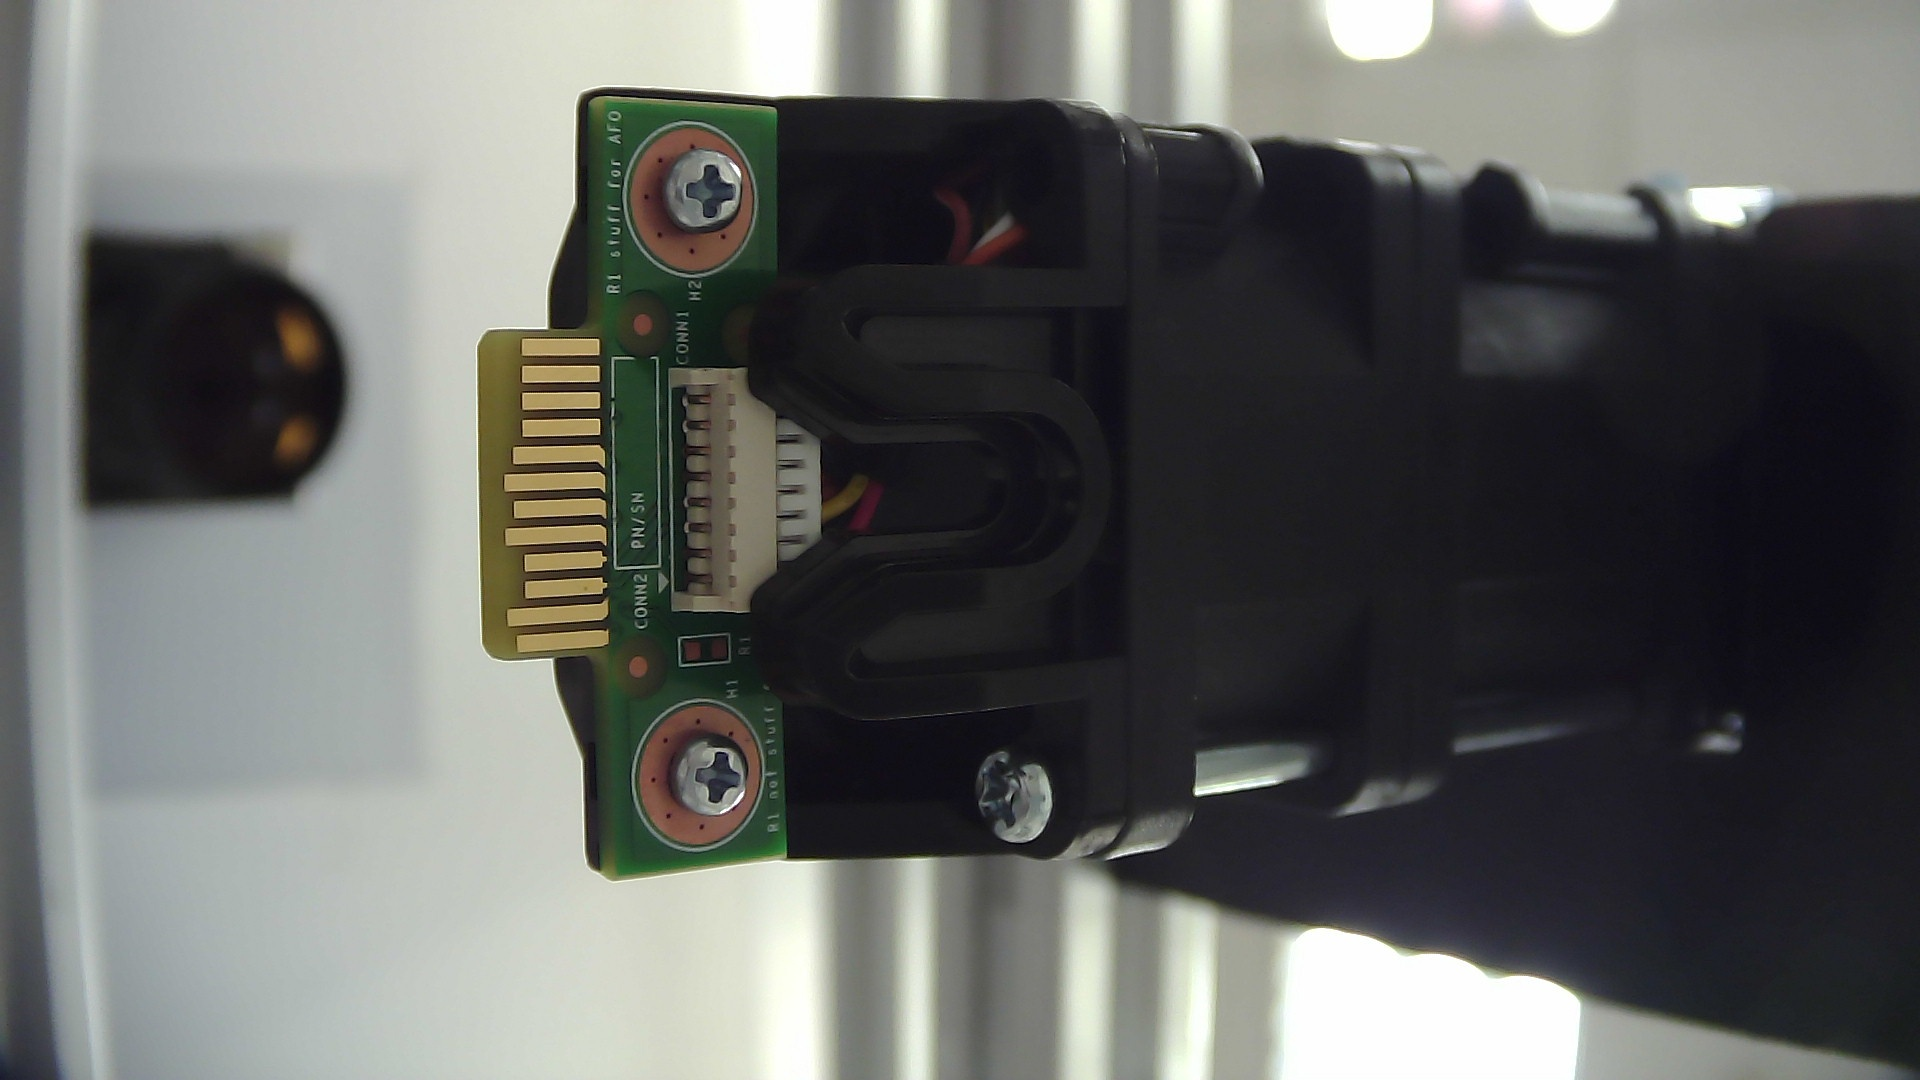2_0: (29, 133, 1863, 1052)
